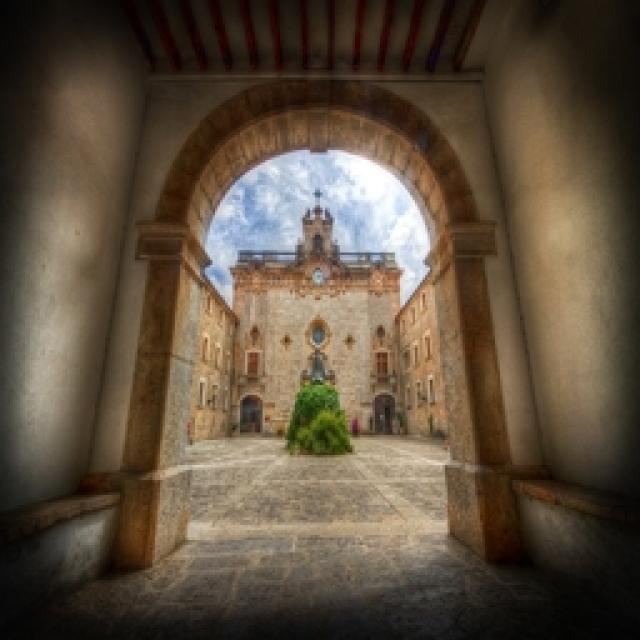Abbey: (226, 186, 406, 438)
